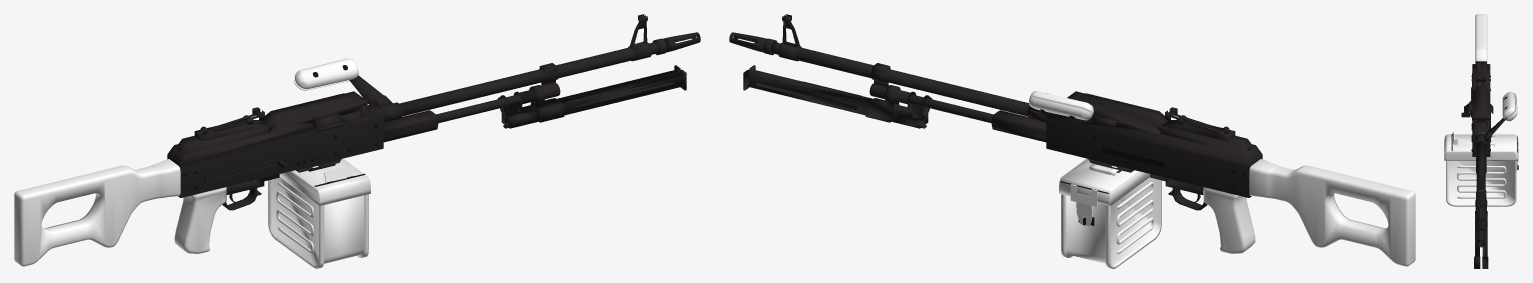
Rendered from pkm_ammobox_belt.glb.
The picture shows the model from 3 angles, left to right: view 1: azimuth 30°, elevation 25°; view 2: azimuth 150°, elevation 25°; view 3: azimuth 270°, elevation 25°; orthographic projection. The views are drawn at different scales.
Visible parts, largest first — view 1: Cube, Cylinder, Cube.001, Cylinder.003, Cube.002, Cylinder.002, Cube.003; view 2: Cube, Cylinder, Cube.001, Cylinder.002, Cube.002, Cylinder.003, Plane; view 3: Cube.001, Cylinder, Cube, Cube.002, Cylinder.002, Cylinder.003.
Part boxes in pixels (bbox=[...]): Cube: bbox=[14, 104, 383, 266]; Cylinder: bbox=[294, 14, 700, 142]; Cube.001: bbox=[268, 158, 370, 268]; Cylinder.003: bbox=[507, 69, 686, 128]; Cube.002: bbox=[262, 91, 367, 133]; Cylinder.002: bbox=[501, 65, 680, 124]; Cube.003: bbox=[200, 154, 286, 186]; Cube: bbox=[1046, 107, 1415, 266]; Cylinder: bbox=[729, 14, 1093, 142]; Cube.001: bbox=[1059, 158, 1161, 268]; Cylinder.002: bbox=[743, 69, 922, 128]; Cube.002: bbox=[1067, 91, 1167, 133]; Cylinder.003: bbox=[749, 65, 928, 124]; Plane: bbox=[1102, 147, 1164, 167]; Cube.001: bbox=[1444, 131, 1518, 206]; Cylinder: bbox=[1475, 91, 1517, 247]; Cube: bbox=[1472, 14, 1490, 156]; Cube.002: bbox=[1464, 86, 1493, 122]; Cylinder.002: bbox=[1482, 206, 1488, 268]; Cylinder.003: bbox=[1474, 207, 1480, 268].
Size of the model in its own units: 6.5 by 1.46 by 0.9098.
9 materials, 1 textured.
